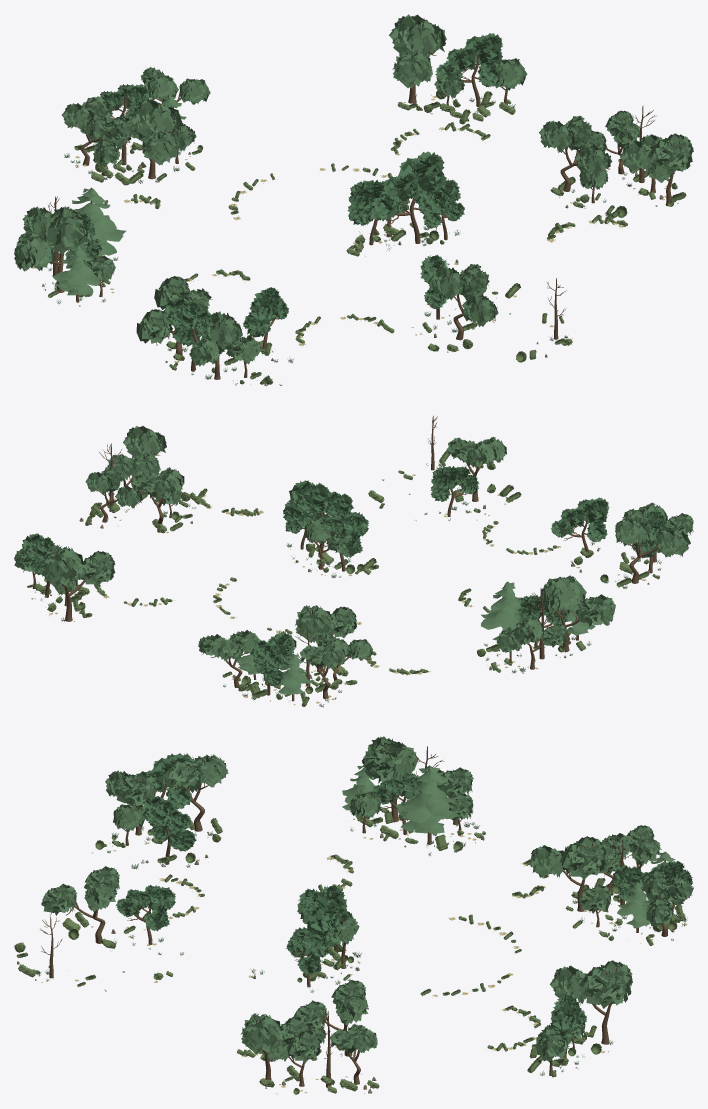
File: atlas-v82-common-landscape.glb
3 views of the same model, one above another, from view 1: azimuth 30°, elevation 25°; view 2: azimuth 150°, elevation 25°; view 3: azimuth 270°, elevation 25° (orthographic). The views are drawn at different scales.
Parts seen in each view (by area): view 1: v82-common-tree-036, v82-common-tree-024, v82-common-tree-006, v82-common-tree-013, v82-common-tree-017, v82-common-tree-023, v82-common-tree-026, v82-common-tree-020, v82-common-tree-009, v82-common-tree-010, v82-common-tree-008, v82-common-tree-032 (+14 smaller); view 2: v82-common-tree-024, v82-common-tree-006, v82-common-tree-009, v82-common-tree-036, v82-common-tree-012, v82-common-tree-026, v82-common-tree-020, v82-common-tree-013, v82-common-tree-037, v82-common-tree-031, v82-common-tree-014, v82-common-tree-017 (+16 smaller); view 3: v82-common-tree-024, v82-common-tree-026, v82-common-tree-001, v82-common-tree-013, v82-common-tree-009, v82-common-tree-006, v82-common-tree-017, v82-common-tree-031, v82-common-tree-020, v82-common-tree-012, v82-common-tree-014, v82-common-tree-036 (+19 smaller).
Part boxes in pixels (x1=…): v82-common-tree-036: x1=370, y1=151, x2=447, y2=243; v82-common-tree-024: x1=389, y1=14, x2=446, y2=103; v82-common-tree-006: x1=14, y1=206, x2=91, y2=292; v82-common-tree-013: x1=431, y1=264, x2=498, y2=340; v82-common-tree-017: x1=539, y1=115, x2=612, y2=191; v82-common-tree-023: x1=435, y1=33, x2=502, y2=106; v82-common-tree-026: x1=130, y1=99, x2=182, y2=179; v82-common-tree-020: x1=620, y1=133, x2=693, y2=206; v82-common-tree-009: x1=136, y1=276, x2=212, y2=359; v82-common-tree-010: x1=164, y1=297, x2=230, y2=371; v82-common-tree-008: x1=189, y1=311, x2=242, y2=379; v82-common-tree-032: x1=83, y1=113, x2=132, y2=175; v82-common-tree-024: x1=41, y1=545, x2=115, y2=621; v82-common-tree-006: x1=541, y1=575, x2=615, y2=651; v82-common-tree-009: x1=615, y1=508, x2=690, y2=583; v82-common-tree-036: x1=288, y1=480, x2=359, y2=556; v82-common-tree-012: x1=550, y1=497, x2=609, y2=557; v82-common-tree-026: x1=295, y1=605, x2=356, y2=672; v82-common-tree-020: x1=123, y1=426, x2=166, y2=493; v82-common-tree-013: x1=446, y1=436, x2=506, y2=501; v82-common-tree-037: x1=317, y1=511, x2=368, y2=571; v82-common-tree-031: x1=198, y1=630, x2=258, y2=687; v82-common-tree-014: x1=430, y1=466, x2=479, y2=516; v82-common-tree-017: x1=132, y1=467, x2=184, y2=532; v82-common-tree-024: x1=550, y1=960, x2=632, y2=1044; v82-common-tree-026: x1=529, y1=836, x2=606, y2=911; v82-common-tree-001: x1=395, y1=765, x2=459, y2=844; v82-common-tree-013: x1=41, y1=866, x2=119, y2=943; v82-common-tree-009: x1=165, y1=753, x2=228, y2=831; v82-common-tree-006: x1=362, y1=736, x2=418, y2=822; v82-common-tree-017: x1=293, y1=980, x2=368, y2=1056; v82-common-tree-031: x1=642, y1=869, x2=693, y2=936; v82-common-tree-020: x1=240, y1=1013, x2=310, y2=1080; v82-common-tree-012: x1=141, y1=796, x2=196, y2=864; v82-common-tree-014: x1=115, y1=885, x2=175, y2=944; v82-common-tree-036: x1=293, y1=888, x2=342, y2=955.
Size of the model in its own units: 62.19 by 8.07 by 59.65.
